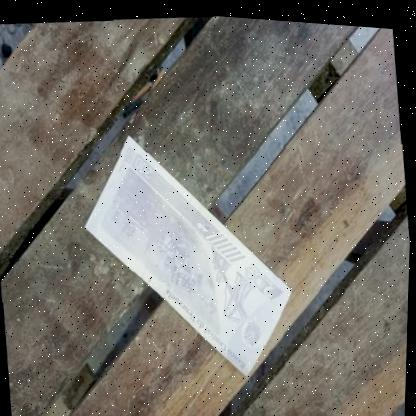two_hundred-back-vef: (72, 112, 306, 390)
